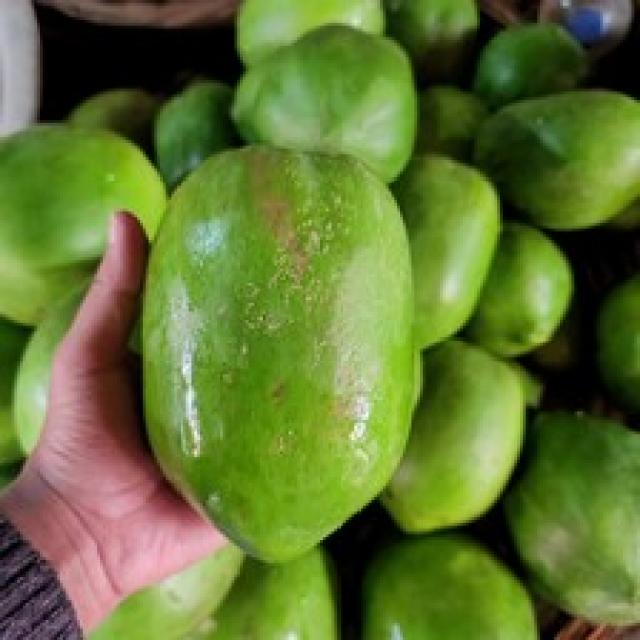Pepaya unrippen: (135, 140, 441, 570)
